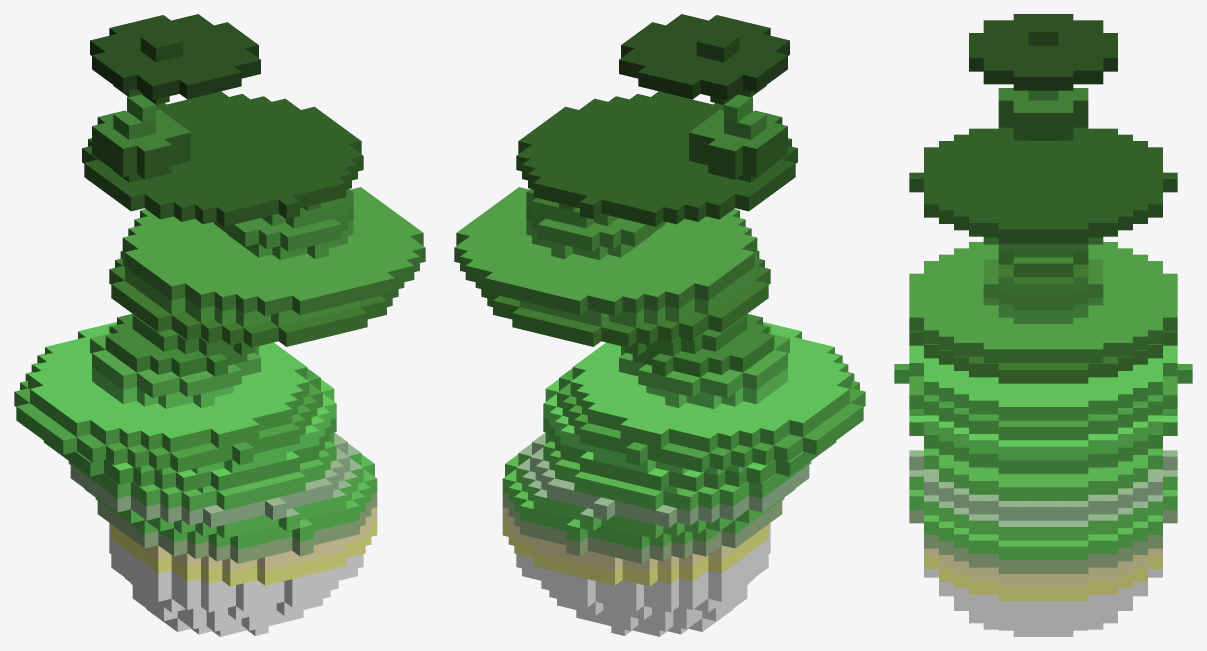
Rendered from TGRNB0_flame.obj.
3 renders of one model, left to right at view 1: azimuth 30°, elevation 25°; view 2: azimuth 150°, elevation 25°; view 3: azimuth 270°, elevation 25°, orthographic. The views are drawn at different scales.
Visible parts, largest first — view 1: TorchFlame; view 2: TorchFlame; view 3: TorchFlame.
Part boxes in pixels (left/top/right/bottom): TorchFlame: left=14, top=14, right=425, bottom=636; TorchFlame: left=454, top=14, right=865, bottom=636; TorchFlame: left=894, top=14, right=1192, bottom=636.
Bounding box in the file's own units: 0.5909 × 0.9318 × 0.4545.
1 material, 1 textured.
